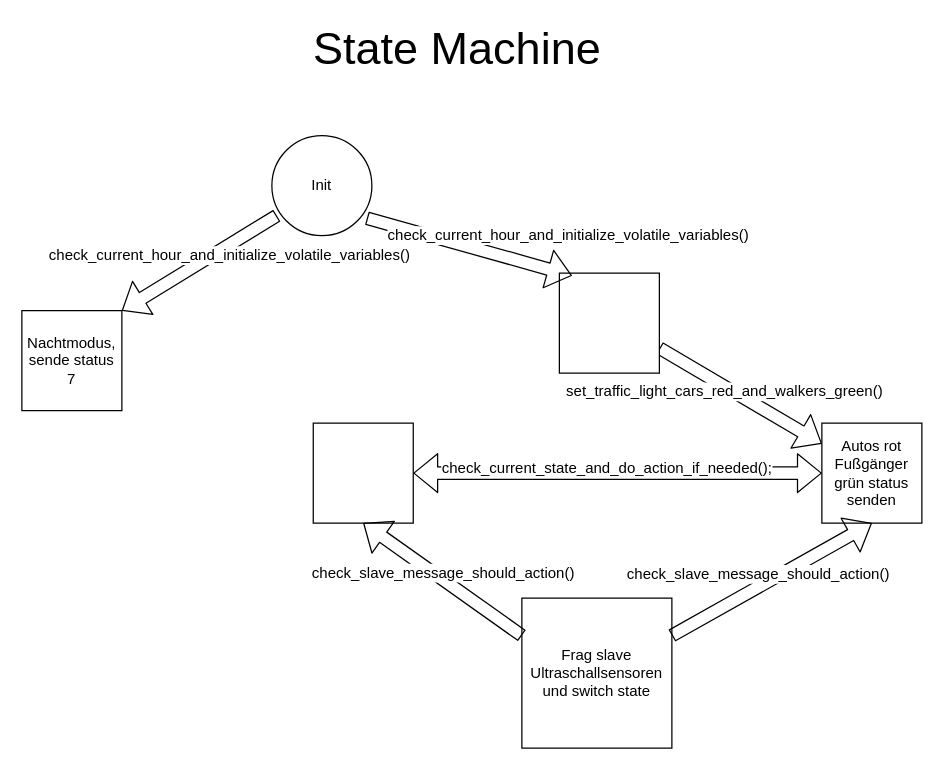
Some shapes in this 944 by 770 pixel diagram are drawn without their labels. The shapes that lost their labels are listed below. From the top down, each one's centre as x and y in pixels, then its label:
At pixel 608 322: "Tagesmodus".
At pixel 362 472: "Autos grün Fußgänger Rot status senden".
